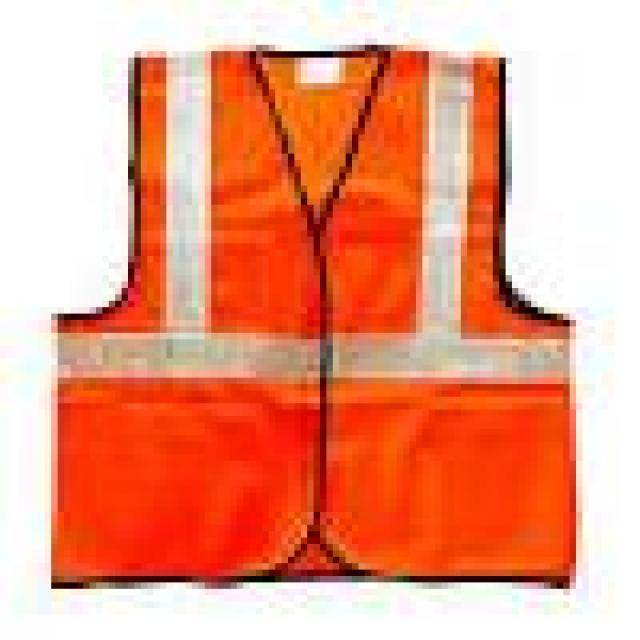Reflective-Jacket: (19, 6, 627, 602)
Safety-Helmet: (179, 0, 512, 64)
